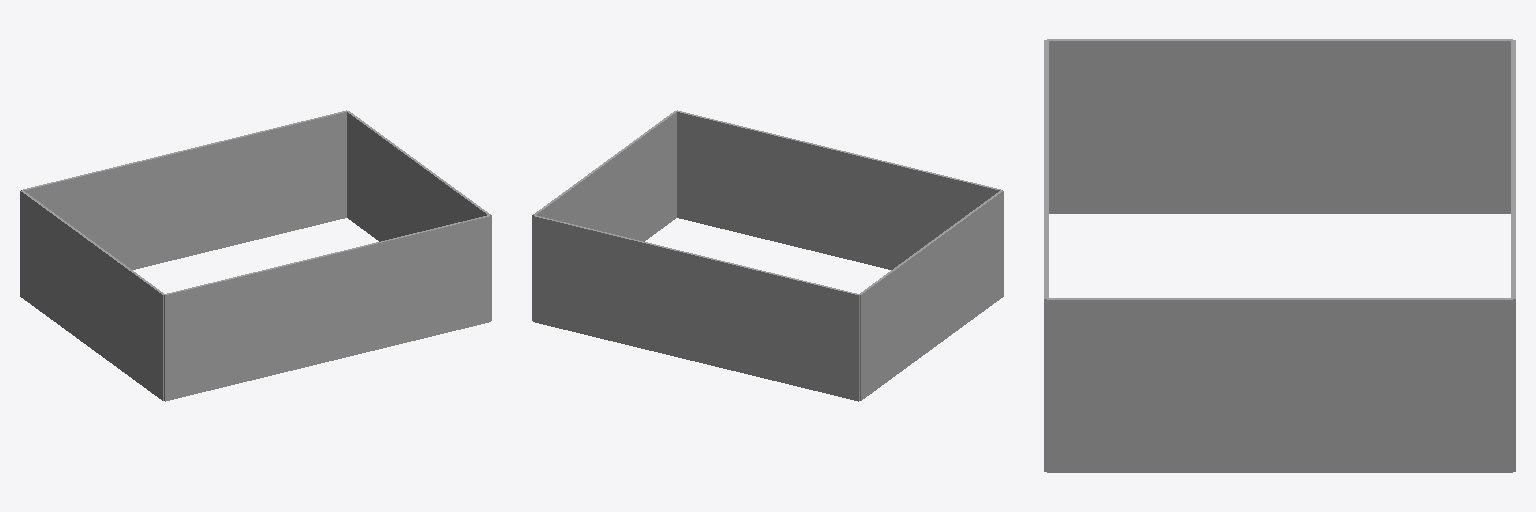
URDF robot description (wall):
<?xml version="1.0" ?>
<robot name="wall">
  <link name="world"/>
  <link name="T1">
    <collision name="collision">
      <geometry>
        <mesh filename="package://abb_irb6640_support/meshes/Scene/T1.stl" scale="0.5 0.5 0.5"/>
      </geometry>
    </collision>
    <visual name="visual">
      <geometry>
        <mesh filename="package://abb_irb6640_support/meshes/Scene/T1.stl" scale="0.5 0.5 0.5"/>
      </geometry>
      <material name="DarkGrey">
        <color rgba="0.7 0.7 0.7 0.5"/>
      </material>
    </visual>
  </link>
  <link name="T2">
    <collision name="collision">
      <geometry>
        <mesh filename="package://abb_irb6640_support/meshes/Scene/T1.stl" scale="0.5 0.5 0.5"/>
      </geometry>
    </collision>
    <visual name="visual">
      <geometry>
        <mesh filename="package://abb_irb6640_support/meshes/Scene/T1.stl" scale="0.5 0.5 0.5"/>
      </geometry>
      <material name="DarkGrey">
        <color rgba="0.7 0.7 0.7 0.5"/>
      </material>
    </visual>
  </link>
  <link name="T3">
    <collision name="collision">
      <geometry>
        <mesh filename="package://abb_irb6640_support/meshes/Scene/T3.stl" scale="0.5 0.5 0.5"/>
      </geometry>
    </collision>
    <visual name="visual">
      <geometry>
        <mesh filename="package://abb_irb6640_support/meshes/Scene/T3.stl" scale="0.5 0.5 0.5"/>
      </geometry>
      <material name="DarkGrey">
        <color rgba="0.7 0.7 0.7 0.5"/>
      </material>
    </visual>
  </link>
  <link name="T4">
    <collision name="collision">
      <geometry>
        <mesh filename="package://abb_irb6640_support/meshes/Scene/T3.stl" scale="0.5 0.5 0.5"/>
      </geometry>
    </collision>
    <visual name="visual">
      <geometry>
        <mesh filename="package://abb_irb6640_support/meshes/Scene/T3.stl" scale="0.5 0.5 0.5"/>
      </geometry>
      <material name="DarkGrey">
        <color rgba="0.7 0.7 0.7 0.5"/>
      </material>
    </visual>
  </link>

  <joint name="T1_joint" type="fixed">
    <parent link="world"/>
    <child link="T1"/>
    <origin rpy="0 0 1.57079632679" xyz="-0.9 0.1616 1"/>
  </joint>
  <joint name="T2_joint" type="fixed">
    <parent link="world"/>
    <child link="T2"/>
    <origin rpy="0 0 1.57079632679" xyz="5.5262 0.1616 1"/>
  </joint>
  <joint name="T3_joint" type="fixed">
    <parent link="world"/>
    <child link="T3"/>
    <origin rpy="0 0 1.57079632679" xyz="2.3131 2.6 1"/>
  </joint>
  <joint name="T4_joint" type="fixed">
    <parent link="world"/>
    <child link="T4"/>
    <origin rpy="0 0 1.57079632679" xyz="2.3131 -2.2768 1"/>
  </joint>

  <gazebo>
    <static>true</static>
  </gazebo>
</robot>

--- Render facts (derived) ---
3 views of the same robot in one strip: view 1: azimuth 30°, elevation 25°; view 2: azimuth 150°, elevation 25°; view 3: azimuth 270°, elevation 25° (orthographic).
Model wall with 5 links and 4 joints (4 fixed), rooted at world, posed all joints at 0.
Visible links, largest first — view 1: T4, T3, T1, T2; view 2: T3, T4, T1, T2; view 3: T2, T1, T3, T4.
Link boxes in pixels (bbox=[...]): T4: bbox=[164, 215, 490, 401]; T3: bbox=[21, 110, 347, 269]; T1: bbox=[20, 190, 163, 400]; T2: bbox=[347, 111, 491, 320]; T3: bbox=[533, 215, 859, 401]; T4: bbox=[676, 110, 1002, 269]; T1: bbox=[858, 191, 1003, 400]; T2: bbox=[532, 111, 676, 320]; T2: bbox=[1047, 298, 1512, 472]; T1: bbox=[1047, 39, 1512, 213]; T3: bbox=[1511, 40, 1515, 471]; T4: bbox=[1044, 40, 1048, 471].
Size in the robot's own frame: 6.48 by 4.93 by 2 metres.
Meshes: 2 distinct files referenced, 4 mesh visuals loaded (2 binary STL).